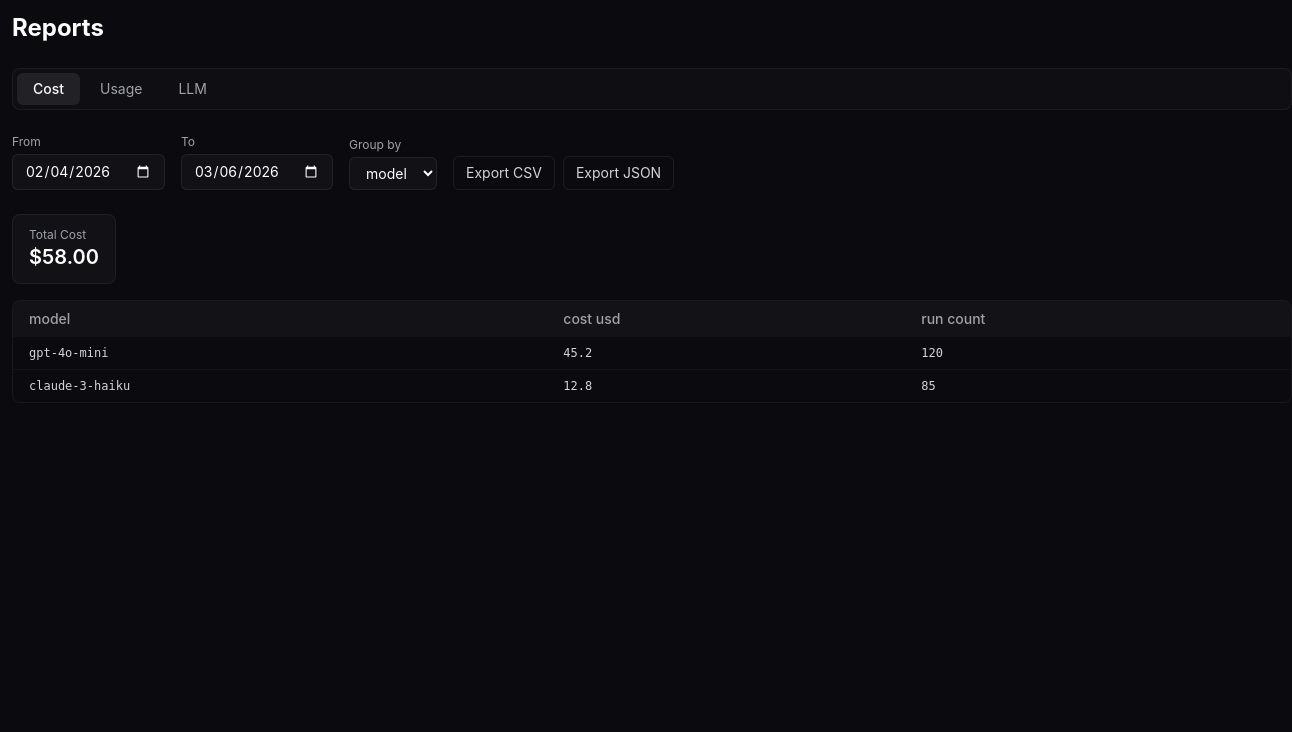
Test: ReportsPage - LLM Tab › renders LLM data when tab is clicked
Click the button "LLM" at [193, 89], box [162,73,223,105]
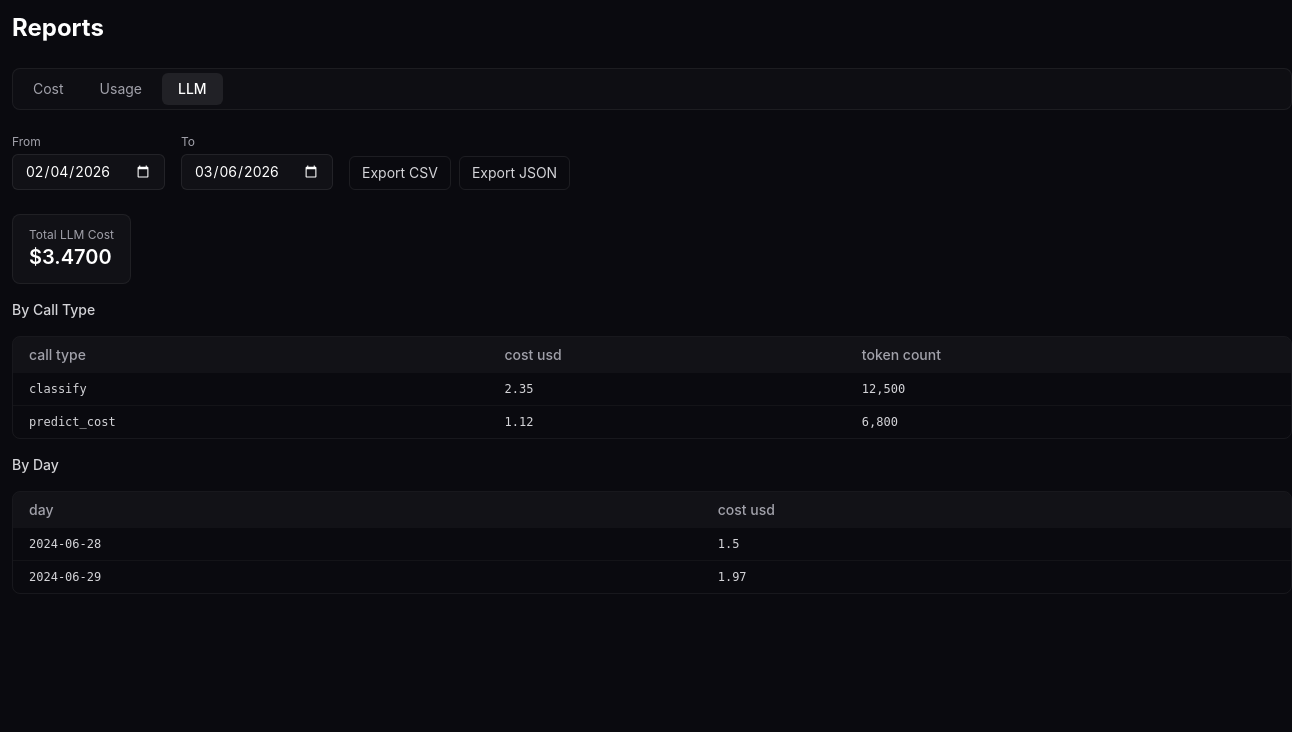
Now the text "Total LLM Cost" is shown, box [29,227,114,243]
Now the text "$3.4700" is shown, box [29,243,114,271]
